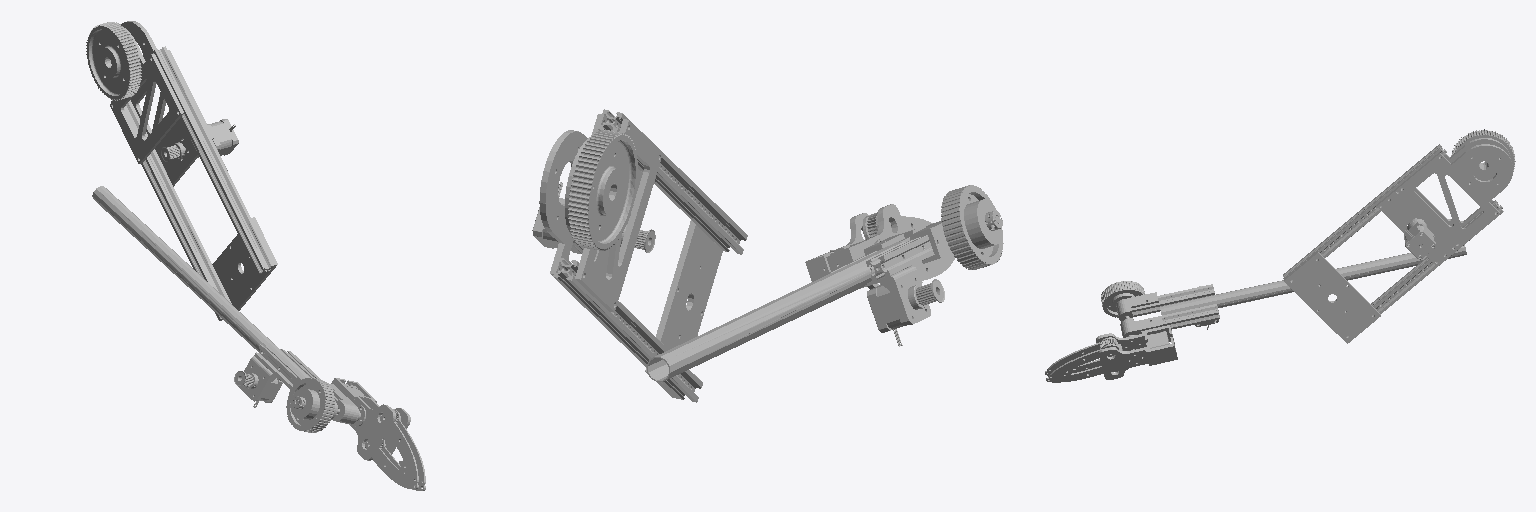
robot.urdf — arm_urdf:
<?xml version="1.0" encoding="utf-8"?>
<!-- This URDF was automatically created by SolidWorks to URDF Exporter! Originally created by [author] ([email redacted]) 
     Commit Version: 1.6.0-4-g7f85cfe  Build Version: 1.6.7995.38578
     For more information, please see http://wiki.ros.org/sw_urdf_exporter -->
<robot
  name="arm_urdf">
  <link
    name="base_link">
    <inertial>
      <origin
        xyz="-0.0036798240314266 0.0334930245621403 -0.067619806748485"
        rpy="0 0 0" />
      <mass
        value="0.822890475760512" />
      <inertia
        ixx="0.00265323982881183"
        ixy="7.59478635142583E-07"
        ixz="7.2543380674244E-05"
        iyy="0.00293479013798865"
        iyz="-1.98795921819183E-05"
        izz="0.000494767896699545" />
    </inertial>
    <visual>
      <origin
        xyz="0 0 0"
        rpy="0 0 0" />
      <geometry>
        <mesh
          filename="package://arm_urdf/meshes/base_link.STL" />
      </geometry>
      <material
        name="">
        <color
          rgba="0.752941176470588 0.752941176470588 0.752941176470588 1" />
      </material>
    </visual>
    <collision>
      <origin
        xyz="0 0 0"
        rpy="0 0 0" />
      <geometry>
        <mesh
          filename="package://arm_urdf/meshes/base_link.STL" />
      </geometry>
    </collision>
  </link>
  <link
    name="link_1">
    <inertial>
      <origin
        xyz="-0.000276081625093938 0.0152801621673459 0.088256138789042"
        rpy="0 0 0" />
      <mass
        value="1.3578353114689" />
      <inertia
        ixx="0.00333814029262389"
        ixy="-2.04850450079554E-07"
        ixz="-7.28667321534616E-06"
        iyy="0.00122042869124216"
        iyz="-0.000124129203998039"
        izz="0.00317720477234305" />
    </inertial>
    <visual>
      <origin
        xyz="0 0 0"
        rpy="0 0 0" />
      <geometry>
        <mesh
          filename="package://arm_urdf/meshes/link_1.STL" />
      </geometry>
      <material
        name="">
        <color
          rgba="0.752941176470588 0.752941176470588 0.752941176470588 1" />
      </material>
    </visual>
    <collision>
      <origin
        xyz="0 0 0"
        rpy="0 0 0" />
      <geometry>
        <mesh
          filename="package://arm_urdf/meshes/link_1.STL" />
      </geometry>
    </collision>
  </link>
  <joint
    name="joint_1"
    type="revolute">
    <origin
      xyz="-0.0055997 0.011176 0.07441"
      rpy="0 0 0.081977" />
    <parent
      link="base_link" />
    <child
      link="link_1" />
    <axis
      xyz="0 0 1" />
    <limit
      lower="-1.5708"
      upper="1.5708"
      effort="200"
      velocity="3" />
  </joint>
  <link
    name="bicep">
    <inertial>
      <origin
        xyz="0.0253997592920813 0.145469939084208 0.0113059977652922"
        rpy="0 0 0" />
      <mass
        value="0.938810977916726" />
      <inertia
        ixx="0.00521724116914255"
        ixy="4.93886221515835E-06"
        ixz="0.00030112344979231"
        iyy="0.000948664160304474"
        iyz="-1.10661506891825E-05"
        izz="0.00467508585971214" />
    </inertial>
    <visual>
      <origin
        xyz="0 0 0"
        rpy="0 0 0" />
      <geometry>
        <mesh
          filename="package://arm_urdf/meshes/bicep.STL" />
      </geometry>
      <material
        name="">
        <color
          rgba="0.752941176470588 0.752941176470588 0.752941176470588 1" />
      </material>
    </visual>
    <collision>
      <origin
        xyz="0 0 0"
        rpy="0 0 0" />
      <geometry>
        <mesh
          filename="package://arm_urdf/meshes/bicep.STL" />
      </geometry>
    </collision>
  </link>
  <joint
    name="joint_2"
    type="revolute">
    <origin
      xyz="0 0.075 0.11064"
      rpy="2.3785 -0.3113 0.28497" />
    <parent
      link="link_1" />
    <child
      link="bicep" />
    <axis
      xyz="0.91355 0 0.40674" />
    <limit
      lower="0.3491"
      upper="2.5307"
      effort="200"
      velocity="3" />
  </joint>
  <link
    name="forearm">
    <inertial>
      <origin
        xyz="0.0260237924033239 -0.0200101568371641 0.0222583522473769"
        rpy="0 0 0" />
      <mass
        value="1.14228048353566" />
      <inertia
        ixx="0.00399684434866099"
        ixy="-0.000131808044696208"
        ixz="4.40042111421313E-08"
        iyy="0.00374650344608502"
        iyz="-6.63579070807178E-09"
        izz="0.000741372239539919" />
    </inertial>
    <visual>
      <origin
        xyz="0 0 0"
        rpy="0 0 0" />
      <geometry>
        <mesh
          filename="package://arm_urdf/meshes/forearm.STL" />
      </geometry>
      <material
        name="">
        <color
          rgba="0.752941176470588 0.752941176470588 0.752941176470588 1" />
      </material>
    </visual>
    <collision>
      <origin
        xyz="0 0 0"
        rpy="0 0 0" />
      <geometry>
        <mesh
          filename="package://arm_urdf/meshes/forearm.STL" />
      </geometry>
    </collision>
  </link>
  <joint
    name="joint_3"
    type="revolute">
    <origin
      xyz="0 0.36 0"
      rpy="-0.88914 0.75522 -2.866" />
    <parent
      link="bicep" />
    <child
      link="forearm" />
    <axis
      xyz="0.91886 -0.39458 0" />
    <limit
      lower="0"
      upper="2.4435"
      effort="200"
      velocity="3" />
  </joint>
  <link
    name="wrist">
    <inertial>
      <origin
        xyz="-0.0717440741453156 0.00183296197726708 -0.317341322429344"
        rpy="0 0 0" />
      <mass
        value="41927.007299493" />
      <inertia
        ixx="8.83747563657208"
        ixy="-0.000124540550785035"
        ixz="-0.00121061700020869"
        iyy="8.83278204569789"
        iyz="-0.0229515226735155"
        izz="7.89645396325965" />
    </inertial>
    <visual>
      <origin
        xyz="0 0 0"
        rpy="0 0 0" />
      <geometry>
        <mesh
          filename="package://arm_urdf/meshes/wrist.STL" />
      </geometry>
      <material
        name="">
        <color
          rgba="0.752941176470588 0.752941176470588 0.752941176470588 1" />
      </material>
    </visual>
    <collision>
      <origin
        xyz="0 0 0"
        rpy="0 0 0" />
      <geometry>
        <mesh
          filename="package://arm_urdf/meshes/wrist.STL" />
      </geometry>
    </collision>
  </link>
  <joint
    name="joint_4"
    type="revolute">
    <origin
      xyz="0.045943 -0.019729 0"
      rpy="0 0 0.057924" />
    <parent
      link="forearm" />
    <child
      link="wrist" />
    <axis
      xyz="0 0 1" />
    <limit
      lower="-1.309"
      upper="1.309"
      effort="200"
      velocity="3" />
  </joint>
  <link
    name="left_claw">
    <inertial>
      <origin
        xyz="0.0038360337692791 0.0426668418390397 0.0236079003771448"
        rpy="0 0 0" />
      <mass
        value="0.0552769421141955" />
      <inertia
        ixx="6.98533291541758E-05"
        ixy="-8.99068548512217E-06"
        ixz="2.88652997947518E-09"
        iyy="4.18428081733545E-06"
        iyz="3.19458959966543E-08"
        izz="7.38079334032916E-05" />
    </inertial>
    <visual>
      <origin
        xyz="0 0 0"
        rpy="0 0 0" />
      <geometry>
        <mesh
          filename="package://arm_urdf/meshes/left_claw.STL" />
      </geometry>
      <material
        name="">
        <color
          rgba="0.752941176470588 0.752941176470588 0.752941176470588 1" />
      </material>
    </visual>
    <collision>
      <origin
        xyz="0 0 0"
        rpy="0 0 0" />
      <geometry>
        <mesh
          filename="package://arm_urdf/meshes/left_claw.STL" />
      </geometry>
    </collision>
  </link>
  <joint
    name="left_claw_joint"
    type="revolute">
    <origin
      xyz="-0.044746 -0.023196 -0.40274"
      rpy="-1.5708 0.14167 1.5708" />
    <parent
      link="wrist" />
    <child
      link="left_claw" />
    <axis
      xyz="0 0 1" />
  </joint>
  <link
    name="right_claw">
    <inertial>
      <origin
        xyz="0.00383606672828818 0.0426668402066062 -0.0252123039358644"
        rpy="0 0 0" />
      <mass
        value="0.0552769060198365" />
      <inertia
        ixx="6.98535705290192E-05"
        ixy="-8.99076507967866E-06"
        ixz="2.88280354022659E-09"
        iyy="4.18375084335393E-06"
        iyz="3.19477309144085E-08"
        izz="7.38076449036395E-05" />
    </inertial>
    <visual>
      <origin
        xyz="0 0 0"
        rpy="0 0 0" />
      <geometry>
        <mesh
          filename="package://arm_urdf/meshes/right_claw.STL" />
      </geometry>
      <material
        name="">
        <color
          rgba="0.752941176470588 0.752941176470588 0.752941176470588 1" />
      </material>
    </visual>
    <collision>
      <origin
        xyz="0 0 0"
        rpy="0 0 0" />
      <geometry>
        <mesh
          filename="package://arm_urdf/meshes/right_claw.STL" />
      </geometry>
    </collision>
  </link>
  <joint
    name="right_claw_joint"
    type="revolute">
    <origin
      xyz="-0.043119 0.023194 -0.40373"
      rpy="-1.5708 -0.18063 -1.5708" />
    <parent
      link="wrist" />
    <child
      link="right_claw" />
    <axis
      xyz="0 0 1" />
  </joint>
</robot>

--- What the picture shows (computed from the rendered views, not written in the file) ---
3 views of the same robot in one strip: view 1: azimuth 30°, elevation 25°; view 2: azimuth 150°, elevation 25°; view 3: azimuth 270°, elevation 25° (orthographic).
Robot: arm_urdf — 7 links, 6 joints (6 revolute); root link base_link; default pose: joints at zero except 1 at the middle of their limits (joint_2 = 1.44).
Visible links, largest first — view 1: bicep, wrist, right_claw, left_claw; view 2: bicep, wrist, right_claw, left_claw; view 3: bicep, wrist, right_claw, left_claw.
Link boxes in pixels (box(x1,y1,x2,y2)): bicep: box(86, 21, 277, 320); wrist: box(92, 186, 410, 460); right_claw: box(380, 409, 425, 484); left_claw: box(365, 440, 425, 490); bicep: box(532, 109, 747, 402); wrist: box(647, 185, 1003, 381); right_claw: box(863, 212, 932, 239); left_claw: box(881, 253, 954, 284); bicep: box(1283, 129, 1515, 343); wrist: box(1096, 245, 1466, 379); right_claw: box(1047, 337, 1118, 378); left_claw: box(1045, 356, 1118, 382).
Bounding box of the posed robot: 0.213 × 0.8321 × 0.457 m (x, y, z).
Meshes: 7 distinct files referenced, 4 mesh visuals loaded (4 binary STL); not drawn: 3 (reference not matched to a file when rendering).